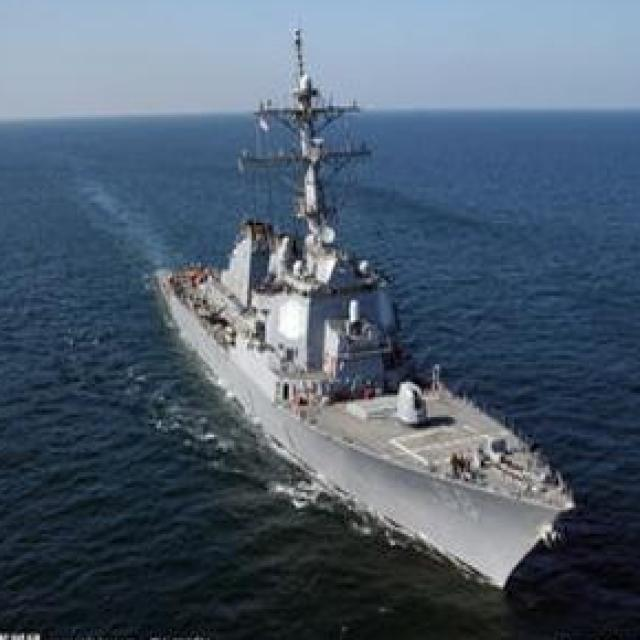navalvessels: (129, 58, 592, 588)
